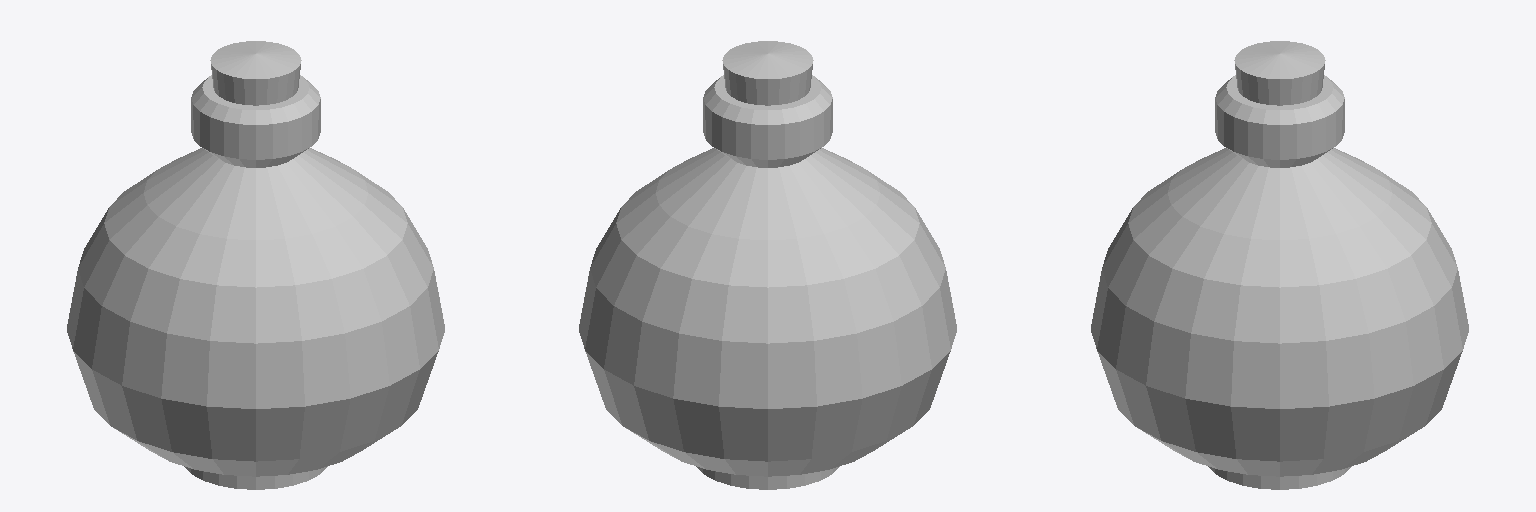
The model's file is potionLarge_green.obj.
3 renders of one model, left to right at view 1: azimuth 30°, elevation 25°; view 2: azimuth 150°, elevation 25°; view 3: azimuth 270°, elevation 25°, orthographic.
Parts seen in each view (by area): view 1: potionLarge_green_Cylinder.173; view 2: potionLarge_green_Cylinder.173; view 3: potionLarge_green_Cylinder.173.
Boxes of the visible parts, <box> form: potionLarge_green_Cylinder.173: <box>67,41,444,489</box>; potionLarge_green_Cylinder.173: <box>579,41,956,489</box>; potionLarge_green_Cylinder.173: <box>1091,41,1468,489</box>.
Size of the model in its own units: 1 by 1.18 by 1.